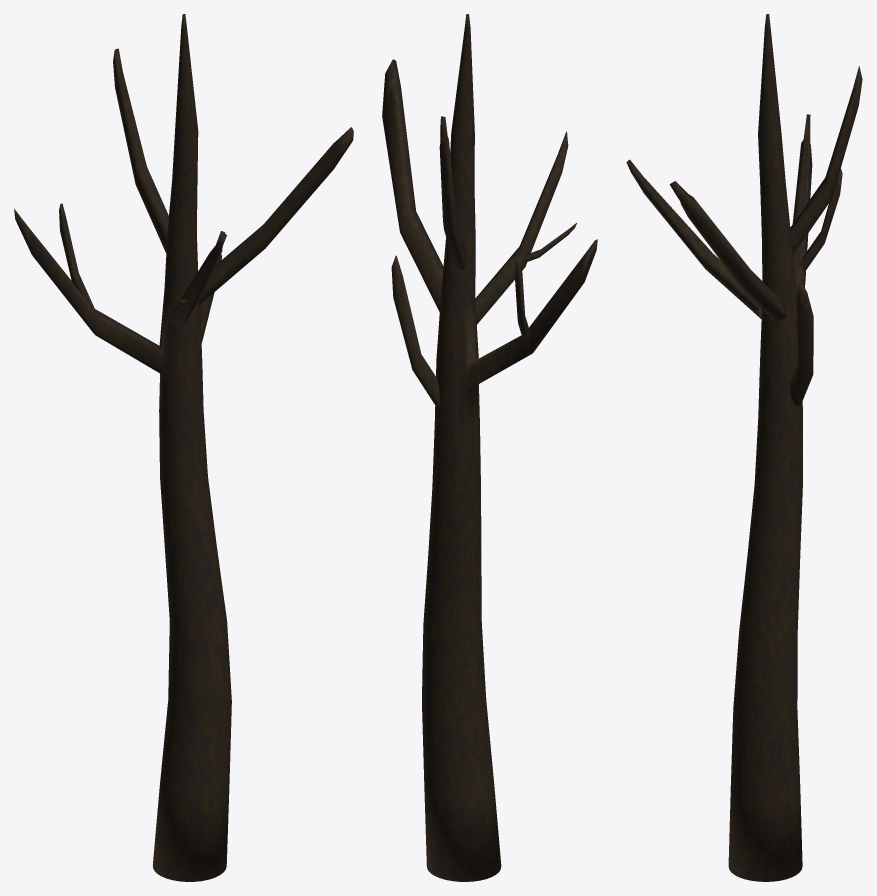
File: DeadTree1.fbx
The picture shows the model from 3 angles, left to right: view 1: azimuth 30°, elevation 25°; view 2: azimuth 150°, elevation 25°; view 3: azimuth 270°, elevation 25°; orthographic projection.
Parts seen in each view (by area): view 1: DeadTree1; view 2: DeadTree1; view 3: DeadTree1.
Part boxes in pixels (bbox=[...]): DeadTree1: bbox=[14, 14, 353, 881]; DeadTree1: bbox=[382, 14, 597, 881]; DeadTree1: bbox=[626, 14, 862, 881].
Size of the model in its own units: 211 by 627 by 158.
